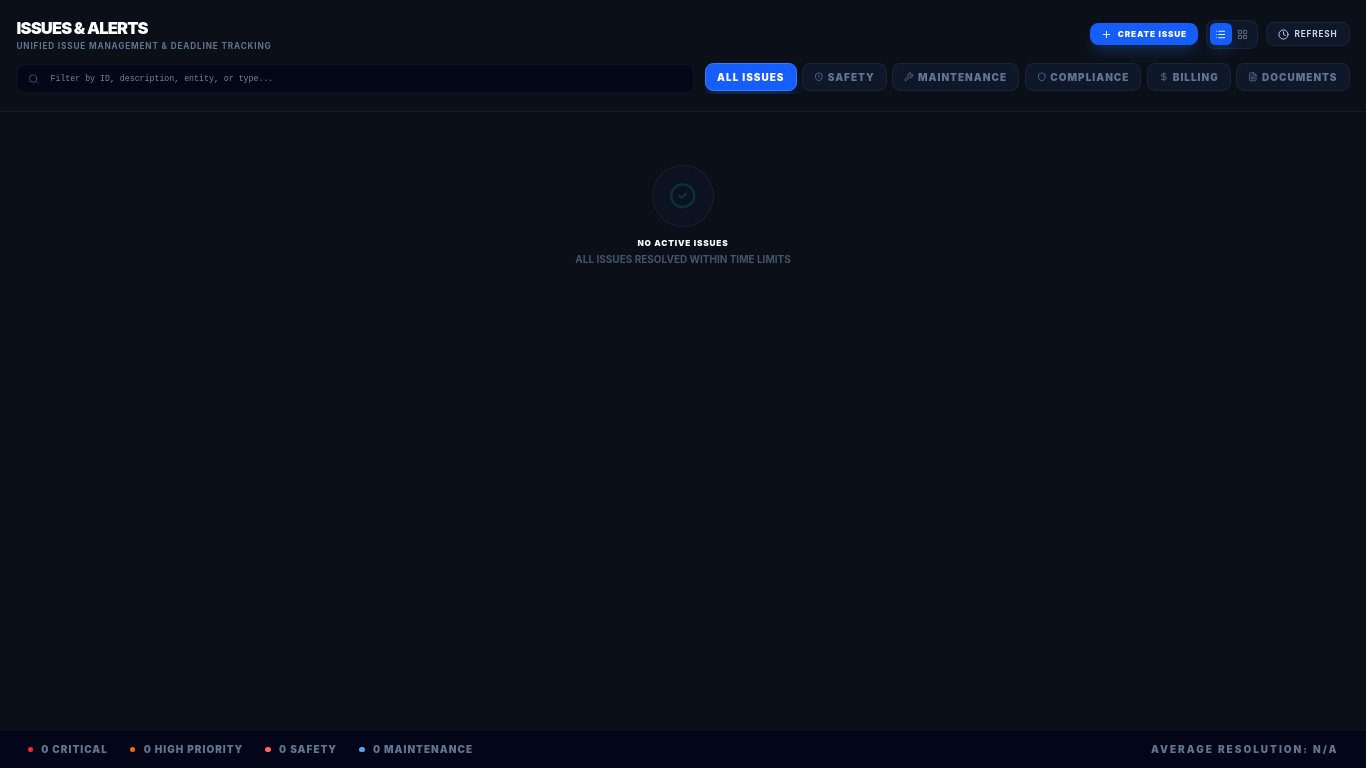
ExceptionConsole handleCreateIssue › validation error path — spinner resets, toast shows error, modal stays open
Step 1. Click the button "Create Issue" → (1144, 34), box [1090,23,1198,45]
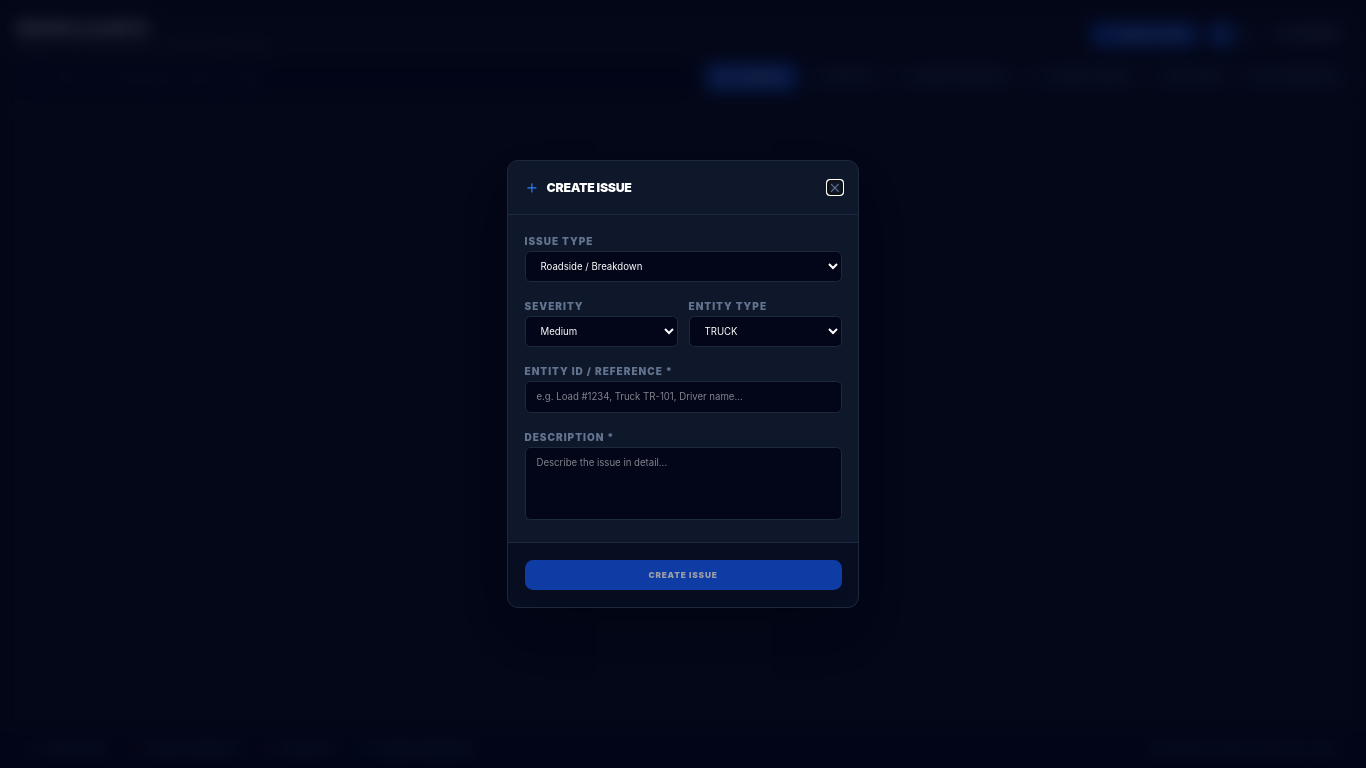
Now the field labelled "Entity ID / Reference *" is shown
Step 2. Type "truck-101" into the field labelled "Entity ID / Reference *" → (683, 397), box [524,381,842,413]
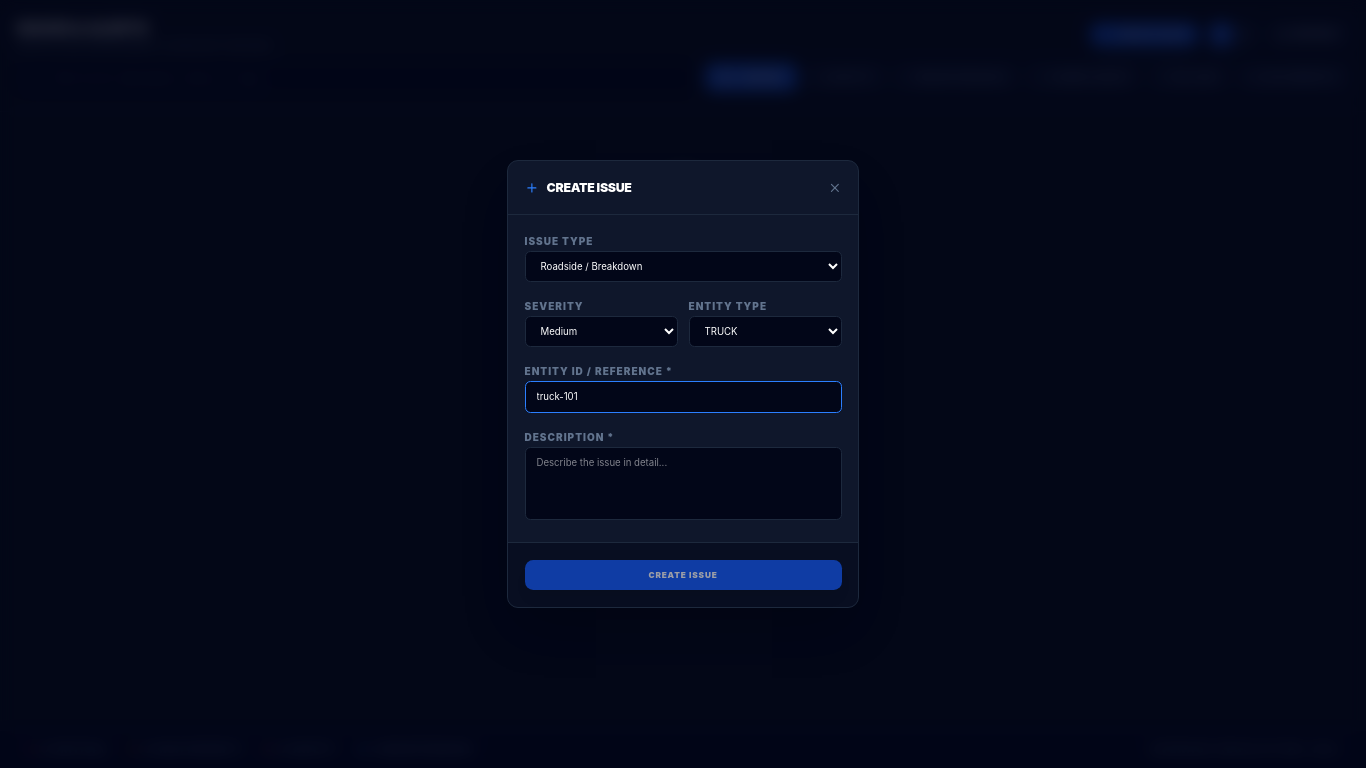
Step 3. Type "Brake failure reported" into the text box with placeholder "Describe the issue in detail..." → (683, 483), box [524,447,842,520]
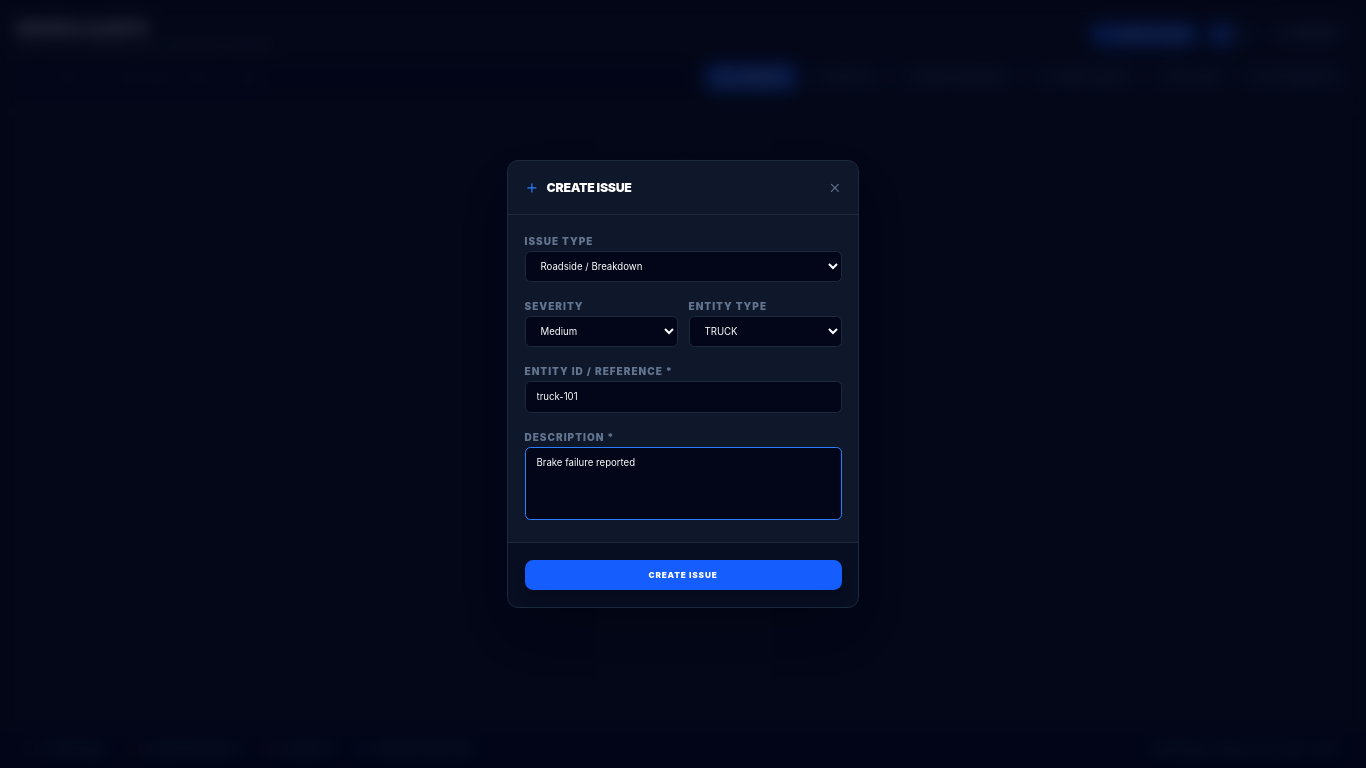
Step 4. Click the button "Create Issue" → (683, 575), box [524,560,842,590]
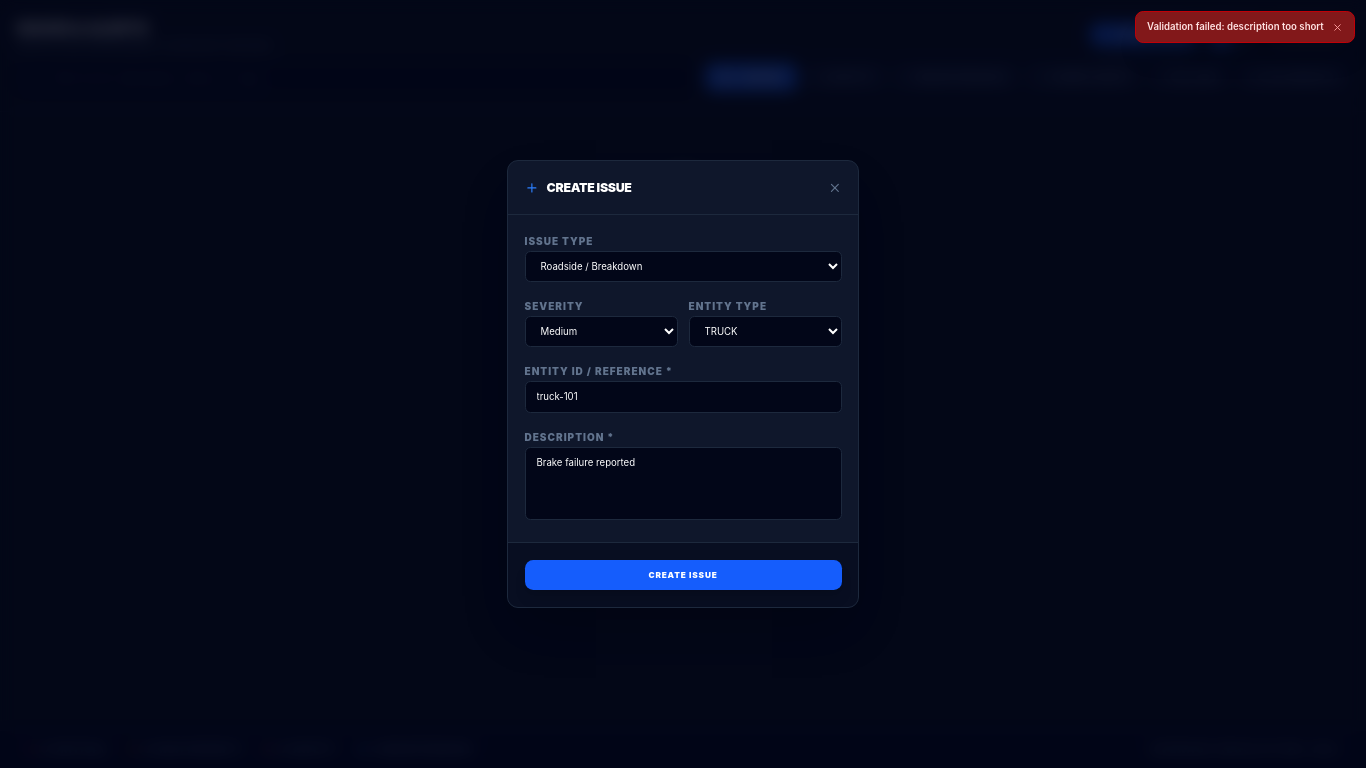
Now the text "Validation failed: description too short" is shown, box [1135,11,1355,43]
